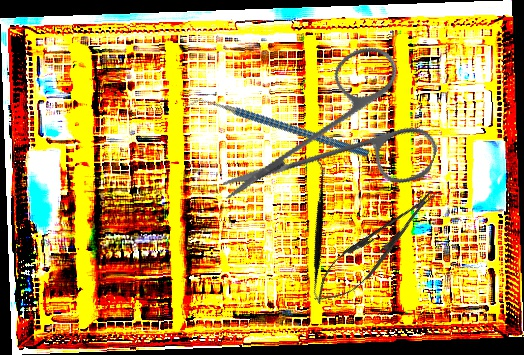Chopper: (183, 45, 371, 213)
Iris Scissors: (218, 13, 464, 261)
Needle Holder: (304, 179, 447, 316)
Spatula Surgical: (255, 158, 381, 304)
